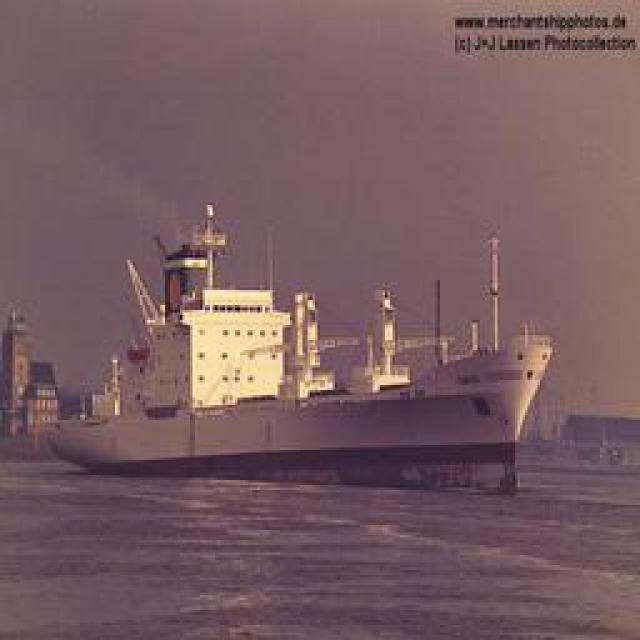Ship: (47, 215, 557, 480)
